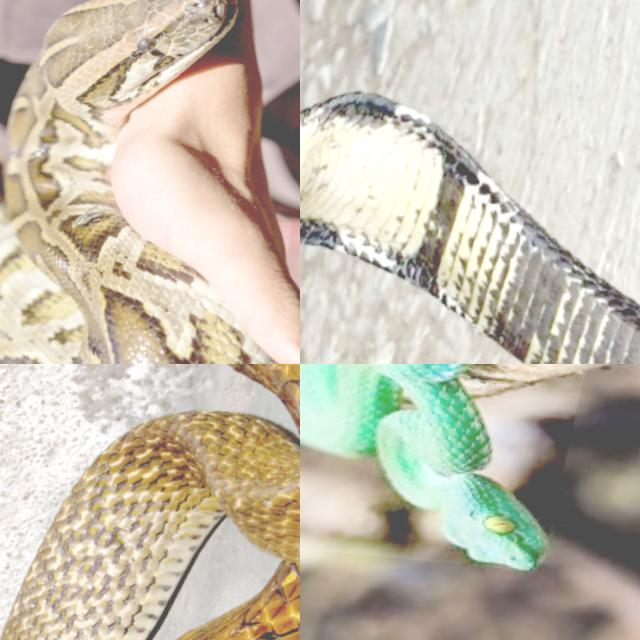Naja kaouthia: (0, 413, 299, 639)
Ophiophagus hannah: (300, 94, 639, 363)
Python bivittatus: (0, 0, 275, 363)
Trimeresurus macrops: (300, 364, 547, 570)
